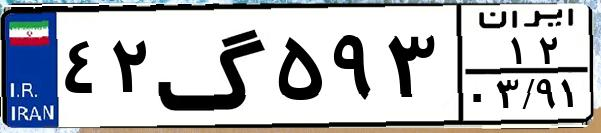0: (470, 70, 495, 125)
1: (560, 70, 590, 125), (508, 27, 537, 80)
2: (110, 28, 156, 98), (537, 27, 568, 80)
3: (385, 28, 445, 110), (495, 70, 520, 125)
4: (57, 26, 110, 100)
5: (270, 28, 330, 110)
9: (330, 28, 385, 110), (535, 70, 560, 125)
گ: (156, 12, 270, 120)
